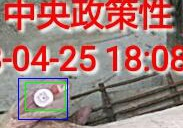text: (25, 82, 65, 110)
